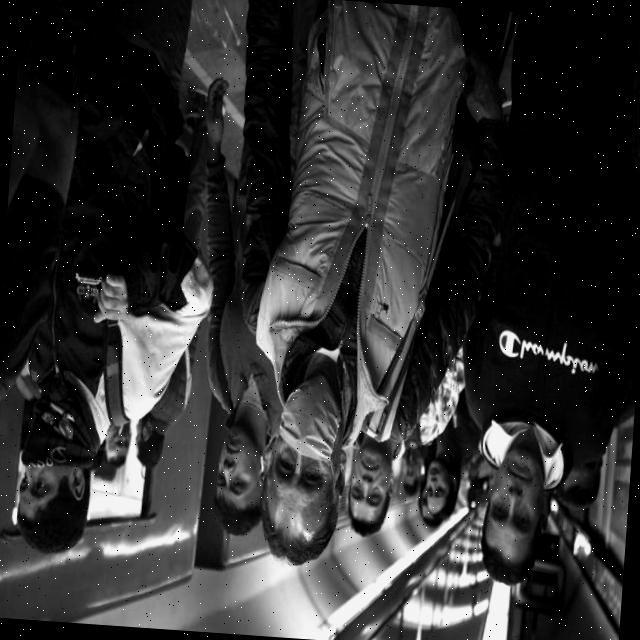mask: (280, 379, 350, 448)
no_gloves: (464, 544, 574, 581), (25, 500, 91, 550), (256, 526, 332, 560), (202, 501, 268, 528), (143, 436, 167, 464), (356, 518, 382, 538), (106, 452, 129, 472), (432, 492, 448, 518), (426, 516, 442, 528)
no_hairnet: (13, 411, 95, 481), (494, 457, 554, 515), (217, 423, 265, 481), (350, 448, 394, 491), (426, 465, 451, 484)
